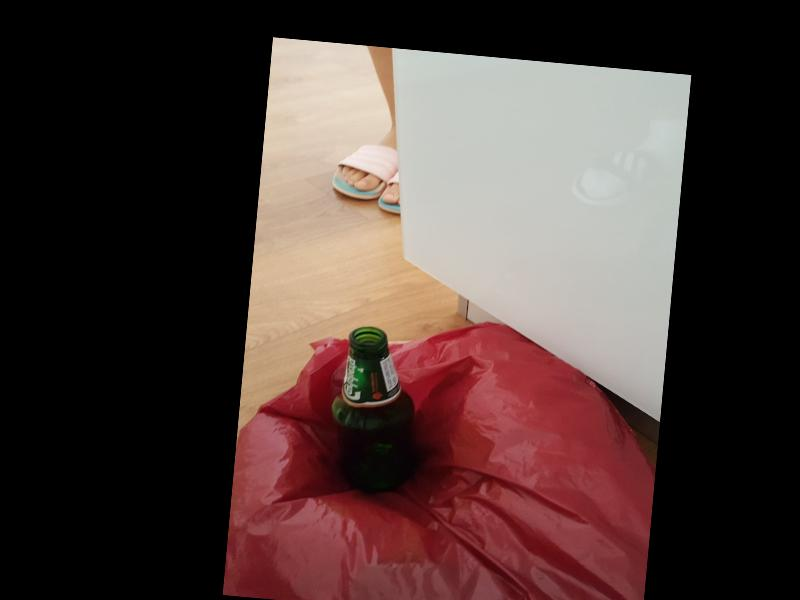Beer: (325, 325, 428, 497)
